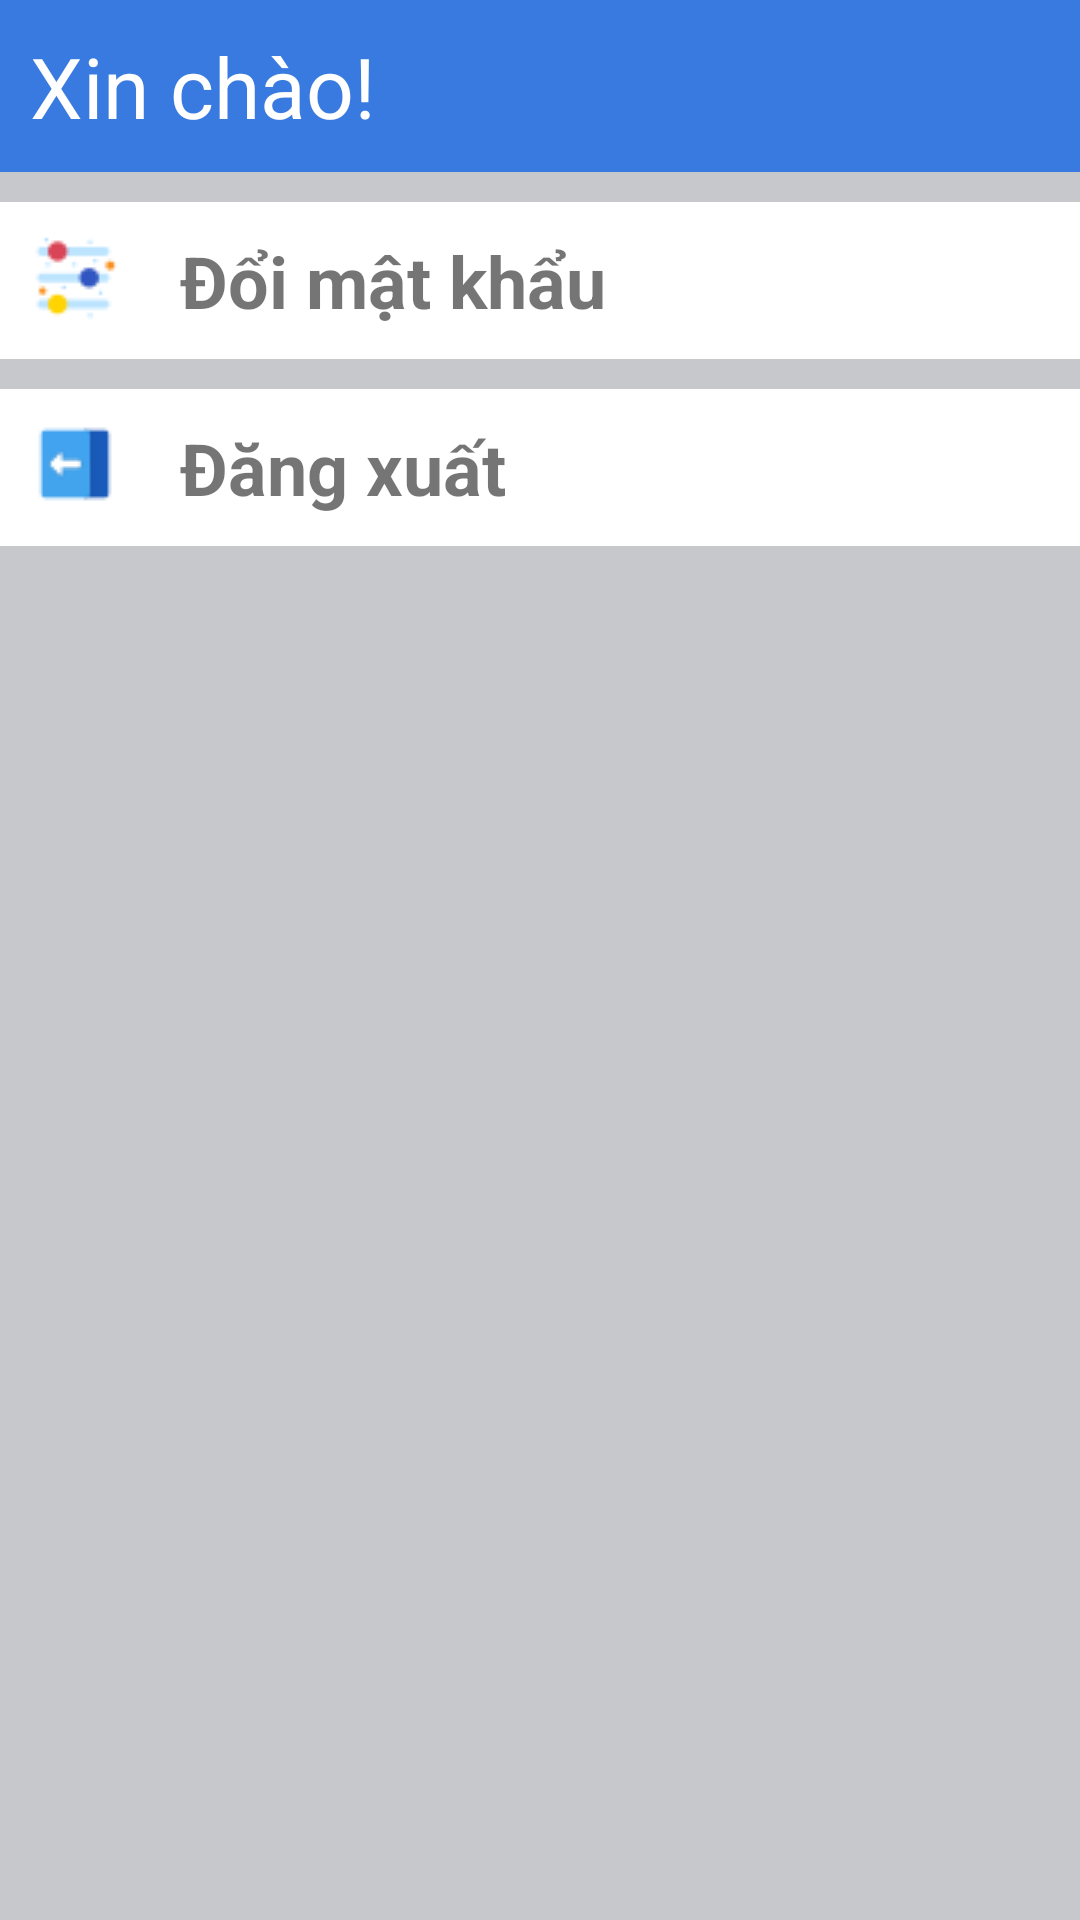

Named icons in this screenshot (1080px×1920px) and their bounding boxes, (x1, y1, x2, y2):
adjust: (37, 237, 116, 317)
